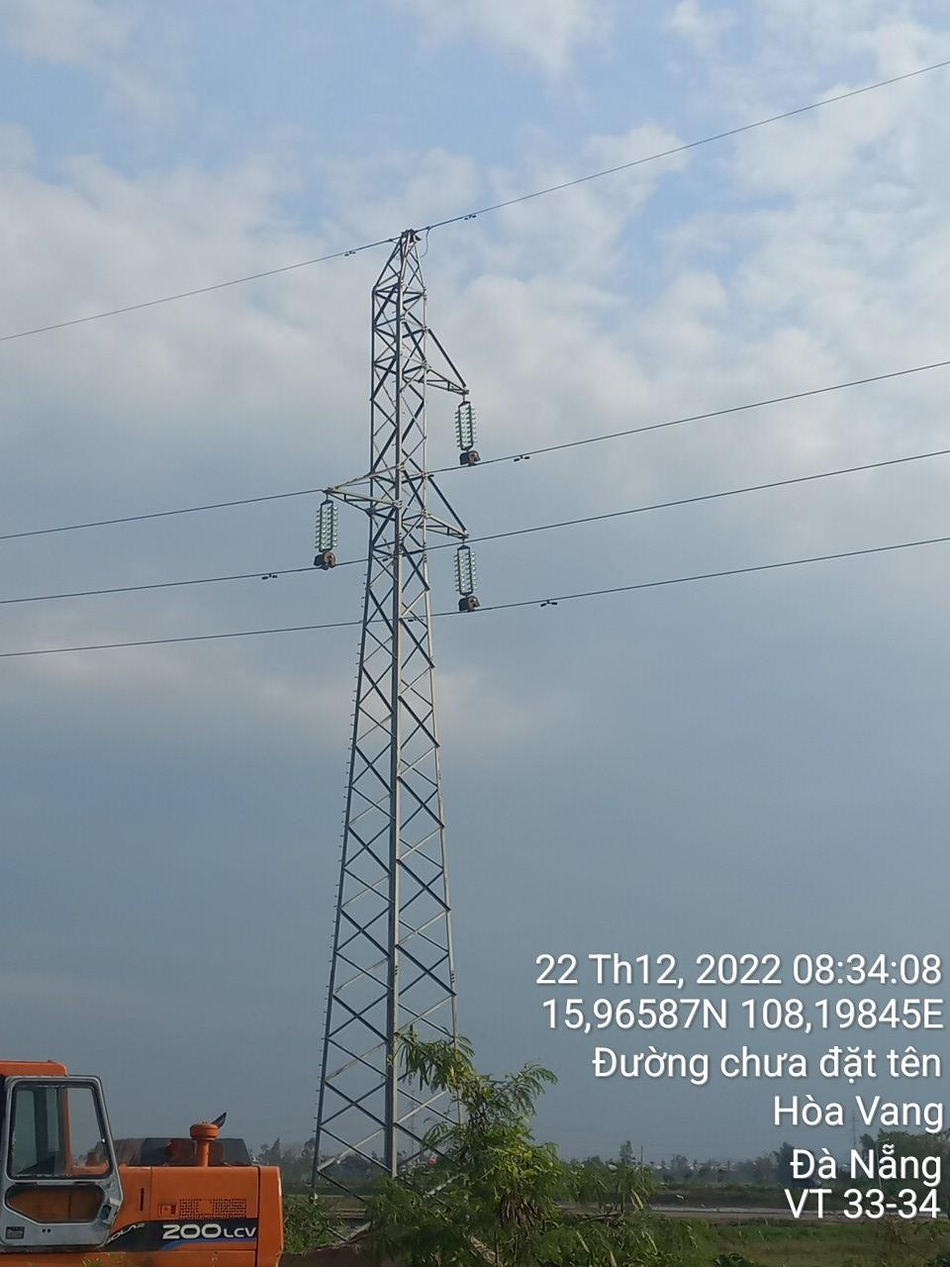power_tower: (311, 206, 491, 1216)
